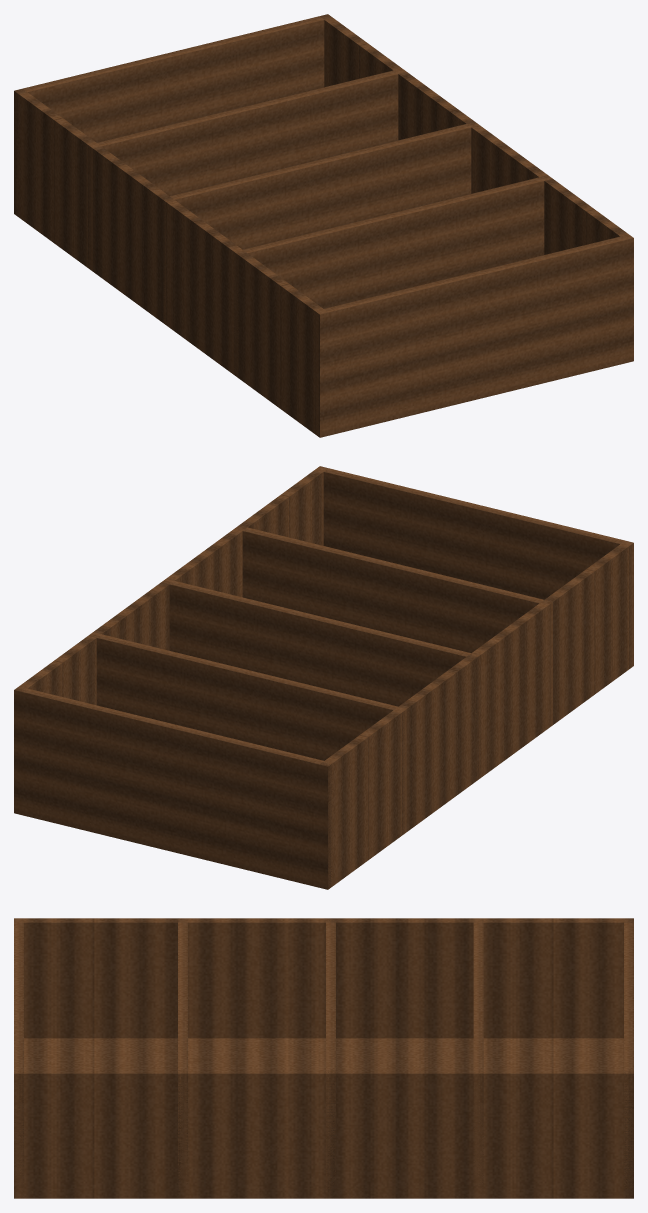
File: bookshelf.glb
3 renders of one model, top to bottom at view 1: azimuth 30°, elevation 25°; view 2: azimuth 150°, elevation 25°; view 3: azimuth 270°, elevation 25°, orthographic.
Visible parts, largest first — view 1: shelf_side_left, shelf_board_4, shelf_board_3, shelf_board_0, shelf_board_1, shelf_board_2, shelf_side_right, shelf_back; view 2: shelf_side_left, shelf_board_0, shelf_board_4, shelf_board_1, shelf_board_3, shelf_board_2, shelf_side_right, shelf_back; view 3: shelf_side_right, shelf_side_left, shelf_back, shelf_board_1, shelf_board_2, shelf_board_4, shelf_board_0, shelf_board_3.
Boxes of the visible parts, x1=… form: shelf_side_left: x1=14, y1=88, x2=328, y2=437; shelf_board_4: x1=315, y1=235, x2=633, y2=435; shelf_board_3: x1=234, y1=175, x2=552, y2=377; shelf_board_0: x1=14, y1=15, x2=331, y2=216; shelf_board_1: x1=88, y1=68, x2=406, y2=271; shelf_board_2: x1=162, y1=122, x2=479, y2=324; shelf_side_right: x1=319, y1=14, x2=633, y2=363; shelf_back: x1=14, y1=205, x2=633, y2=437; shelf_side_left: x1=319, y1=541, x2=633, y2=888; shelf_board_0: x1=14, y1=686, x2=332, y2=888; shelf_board_4: x1=323, y1=468, x2=633, y2=669; shelf_board_1: x1=88, y1=632, x2=406, y2=835; shelf_board_3: x1=235, y1=525, x2=552, y2=726; shelf_board_2: x1=161, y1=579, x2=479, y2=781; shelf_side_right: x1=14, y1=466, x2=328, y2=814; shelf_back: x1=14, y1=661, x2=628, y2=889; shelf_side_right: x1=14, y1=1069, x2=633, y2=1198; shelf_side_left: x1=14, y1=918, x2=633, y2=1038; shelf_back: x1=14, y1=1038, x2=633, y2=1198; shelf_board_1: x1=473, y1=918, x2=483, y2=1197; shelf_board_2: x1=326, y1=919, x2=335, y2=1198; shelf_board_4: x1=14, y1=918, x2=23, y2=1191; shelf_board_0: x1=624, y1=918, x2=633, y2=1197; shelf_board_3: x1=178, y1=918, x2=187, y2=1197.
Bounding box in the file's own units: 0.8 × 0.3 × 1.35.
1 material, 1 textured.
